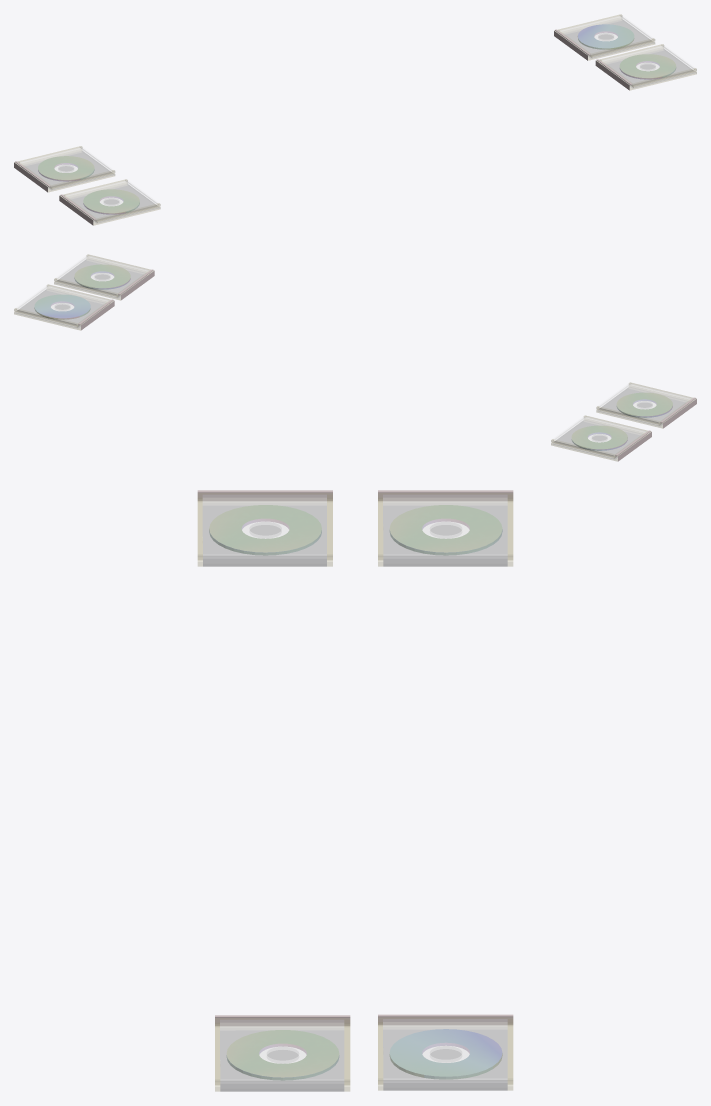
Rendered from Disk.glb.
3 views of the same model, one above another, from view 1: azimuth 30°, elevation 25°; view 2: azimuth 150°, elevation 25°; view 3: azimuth 270°, elevation 25° (orthographic). The views are drawn at different scales.
Visible parts, largest first — view 1: CASE1, CASE2, CASE4, CASE3, CD10, CD20, CD30, CD40; view 2: CASE2, CASE3, CASE4, CASE1, CD40, CD10, CD30, CD20; view 3: CASE1, CASE2, CASE3, CASE4, CD40, CD20, CD30, CD10.
Part boxes in pixels (x1,y1,x2,y2): CASE1: (595,44,696,90); CASE2: (59,179,160,225); CASE4: (554,14,654,60); CASE3: (14,146,114,192); CD10: (619,54,676,79); CD20: (83,189,139,214); CD30: (38,156,94,181); CD40: (577,24,634,49); CASE2: (596,382,696,428); CASE3: (551,415,651,461); CASE4: (14,284,114,330); CASE1: (54,254,154,300); CD40: (34,294,90,319); CD10: (74,264,130,289); CD30: (571,425,627,450); CD20: (616,392,672,417); CASE1: (215,1015,350,1091); CASE2: (197,490,332,566); CASE3: (378,490,513,566); CASE4: (378,1014,513,1090); CD40: (389,1029,502,1079); CD20: (209,505,321,555); CD30: (389,505,502,555); CD10: (226,1030,339,1080).
Size of the model in its own units: 6.48 by 0.06 by 1.46.
5 materials, 1 textured.
